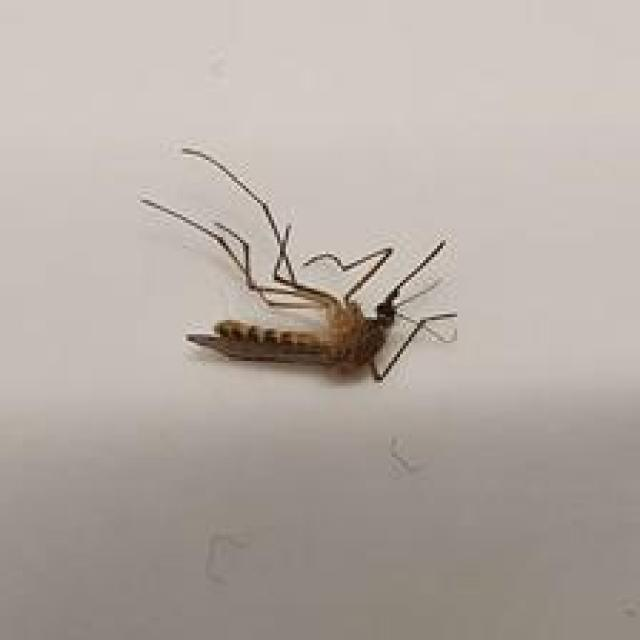Culex: (138, 144, 458, 382)
